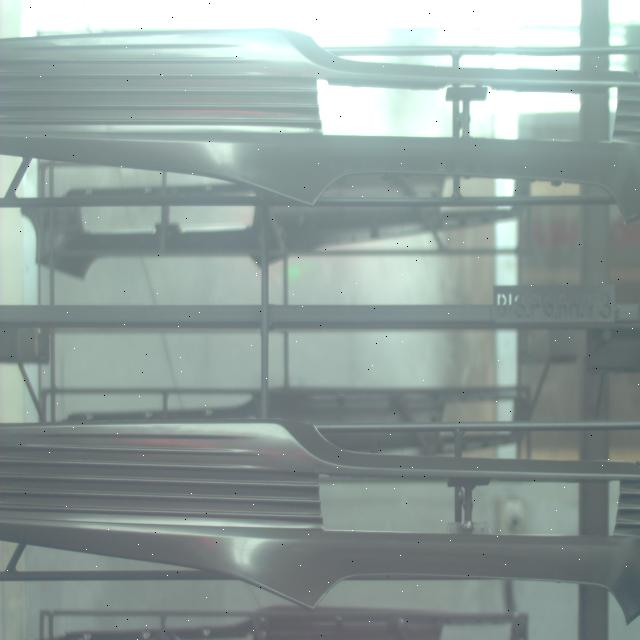Non_primered: (2, 413, 640, 629), (2, 22, 640, 218)
